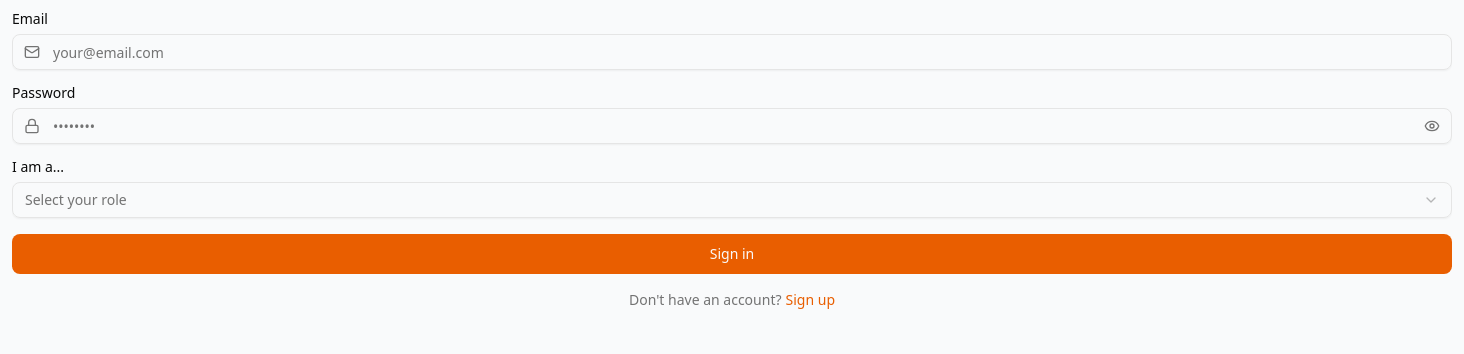
Test: Login Form › disables the submit button when there is an email error
In the field labelled "Email": point(732, 52) [12,34,1452,70], type "invalid-email"
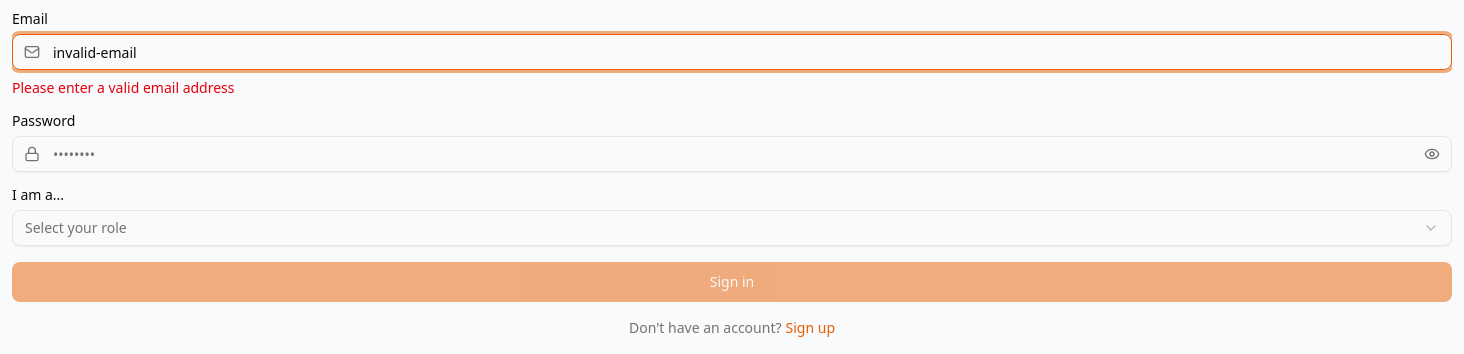
Now the button "Sign in" is disabled, box [12,262,1452,302]
